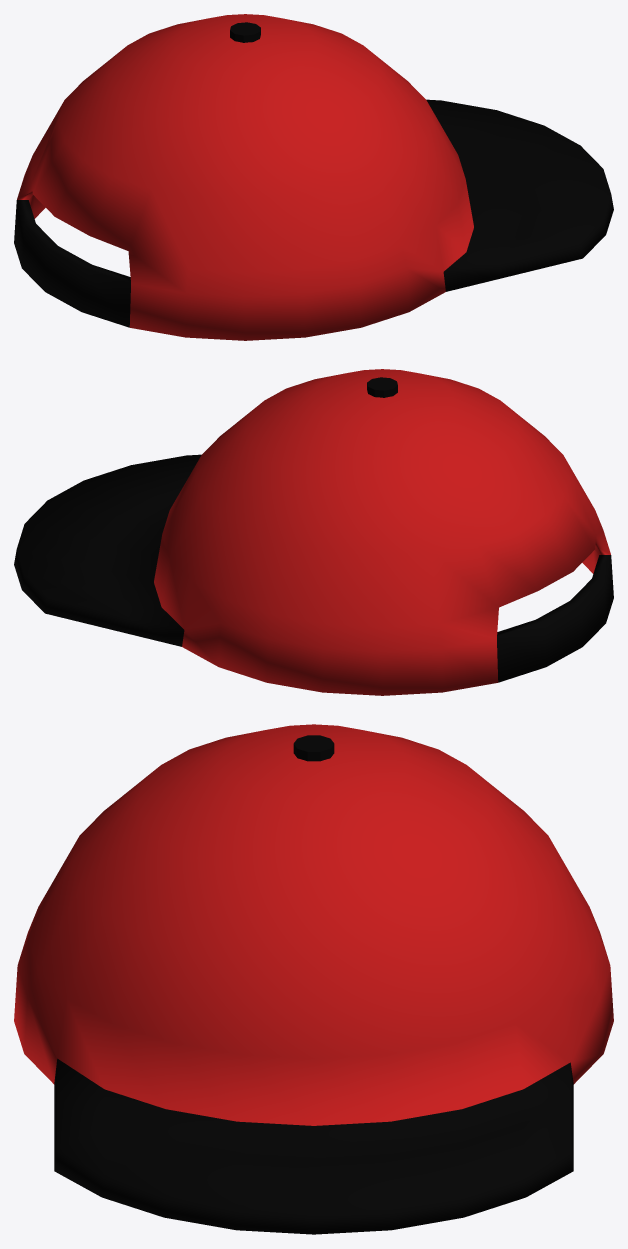
Rendered from cap.fbx.
The picture shows the model from 3 angles, top to bottom: view 1: azimuth 30°, elevation 25°; view 2: azimuth 150°, elevation 25°; view 3: azimuth 270°, elevation 25°; orthographic projection. The views are drawn at different scales.
Visible parts, largest first — view 1: Cap; view 2: Cap; view 3: Cap.
Boxes of the visible parts, x1=… form: Cap: x1=14, y1=14, x2=613, y2=340; Cap: x1=14, y1=369, x2=613, y2=695; Cap: x1=14, y1=724, x2=613, y2=1234.
Bounding box in the file's own units: 275 × 106 × 205.
